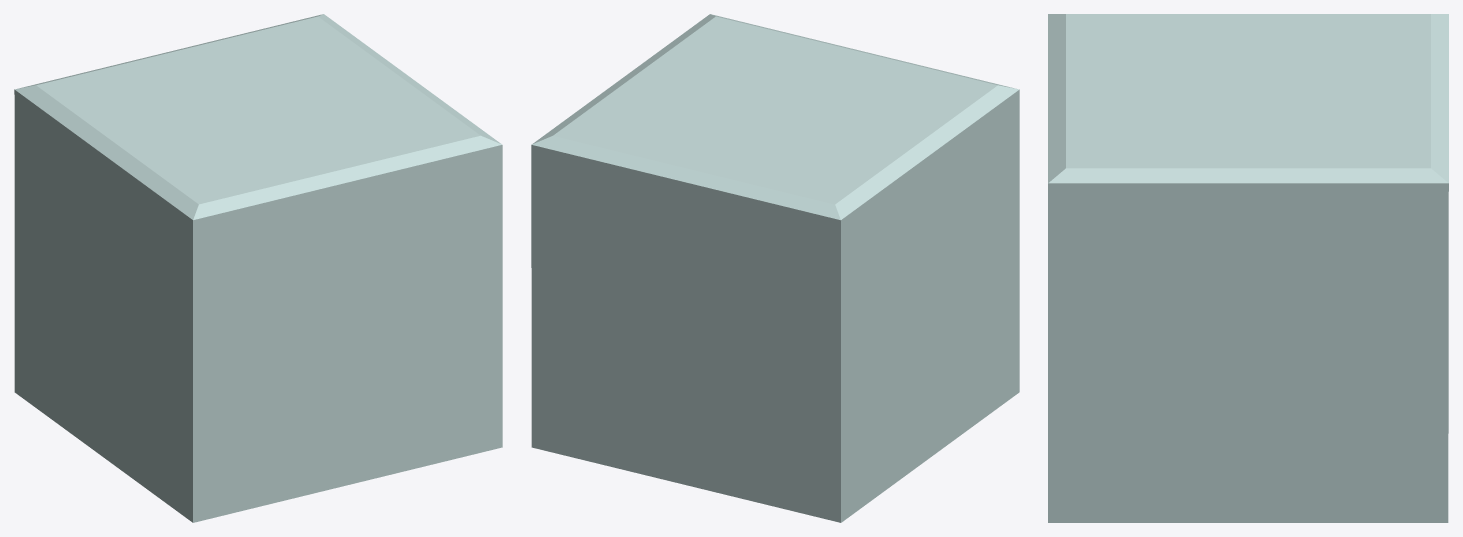
File: Middle_Icetile_01 1.fbx
3 views of the same model, side by side, from view 1: azimuth 30°, elevation 25°; view 2: azimuth 150°, elevation 25°; view 3: azimuth 270°, elevation 25° (orthographic). The views are drawn at different scales.
Parts seen in each view (by area): view 1: Middle_Icetile__01; view 2: Middle_Icetile__01; view 3: Middle_Icetile__01.
Part boxes in pixels (x1,y1,x2,y2): Middle_Icetile__01: (14,14,502,522); Middle_Icetile__01: (531,14,1019,522); Middle_Icetile__01: (1048,14,1448,522).
Bounding box in the file's own units: 3 × 2.87 × 3.
